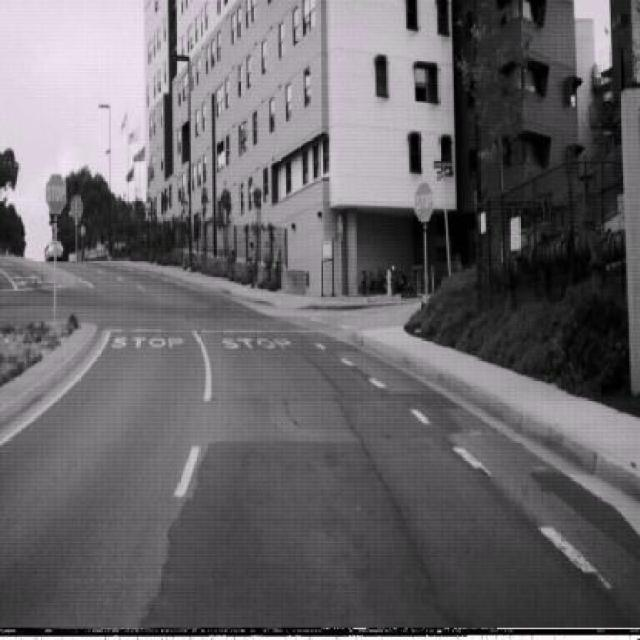stop: (46, 172, 68, 215), (414, 180, 433, 223)
